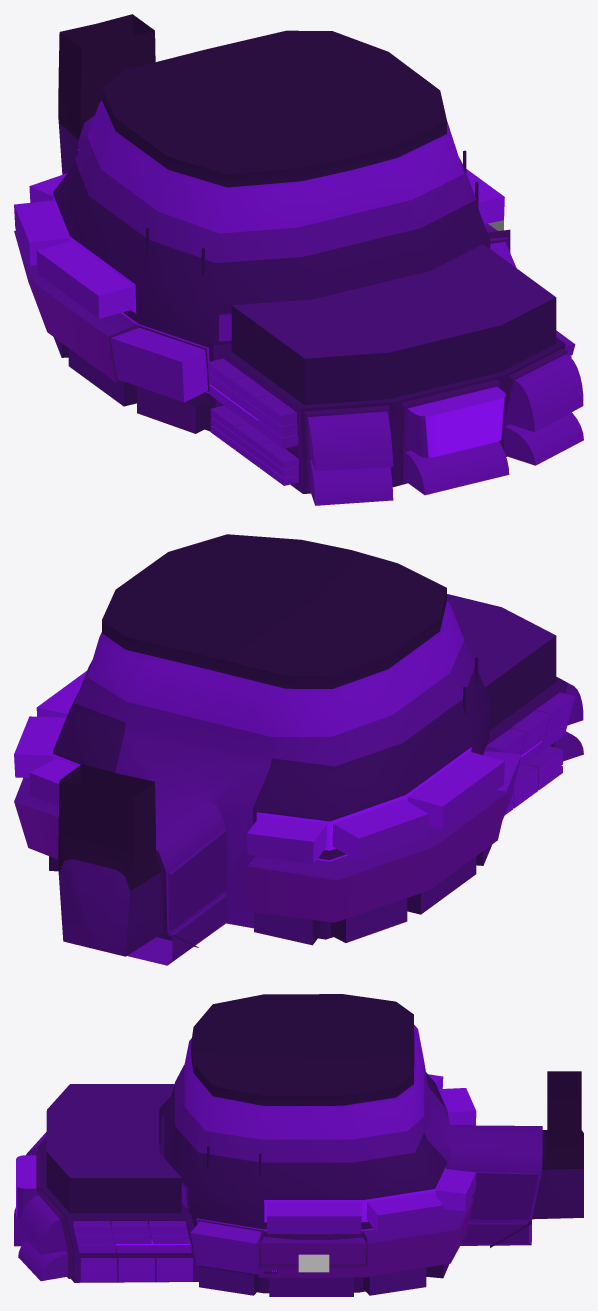
File: gameRoom.gltf
3 renders of one model, top to bottom at view 1: azimuth 30°, elevation 25°; view 2: azimuth 150°, elevation 25°; view 3: azimuth 270°, elevation 25°, orthographic. The views are drawn at different scales.
Parts seen in each view (by area): view 1: Game_Room; view 2: Game_Room; view 3: Game_Room, monutors, screen_window.
Part boxes in pixels (<box>): Game_Room: <box>14,14,583,505</box>; Game_Room: <box>14,534,583,965</box>; Game_Room: <box>14,994,583,1296</box>; monutors: <box>259,1231,367,1273</box>; screen_window: <box>298,1254,329,1272</box>.
Size of what is drawn, in the model's own units: 21.02 by 11.87 by 31.83.
Materials: 8 (7 with a texture image).
